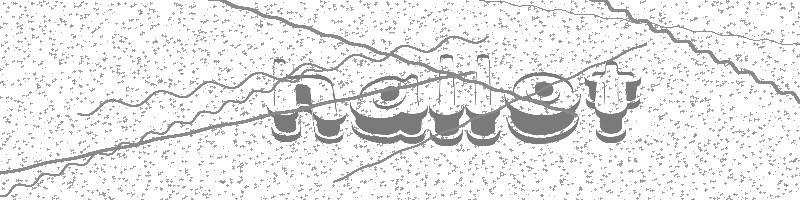a: (351, 71, 427, 144)
h: (268, 54, 350, 144)
l: (464, 52, 502, 151), (429, 52, 466, 146)
o: (504, 68, 583, 147)
t: (583, 57, 644, 147)
